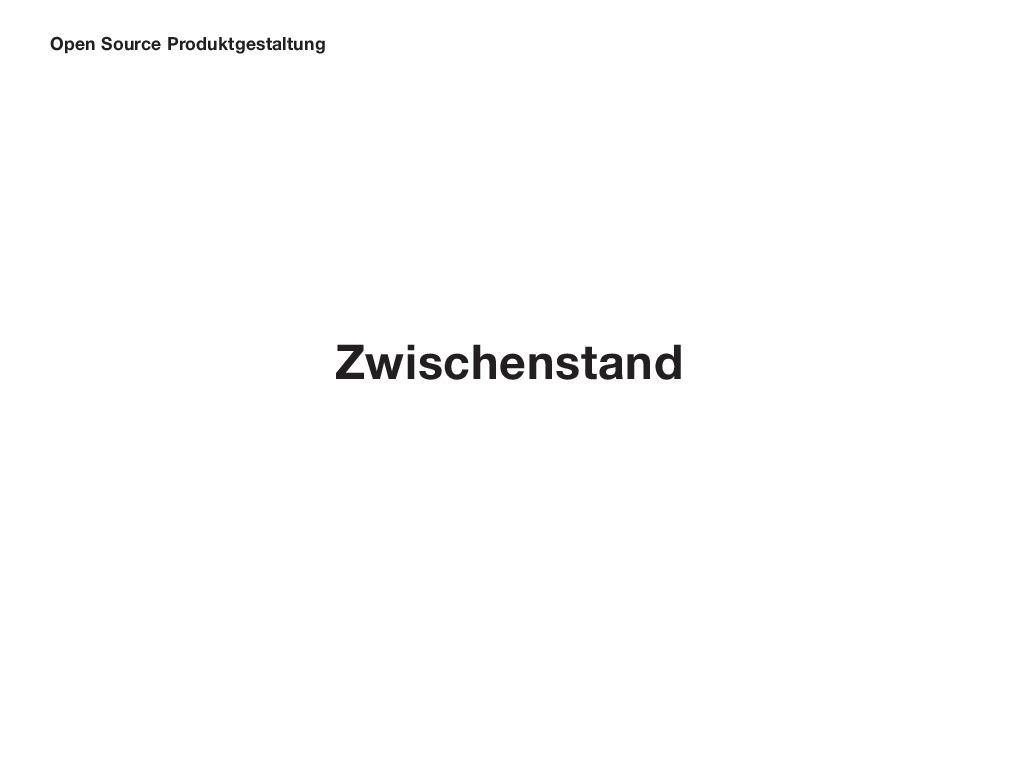title: (296, 315, 709, 408)
